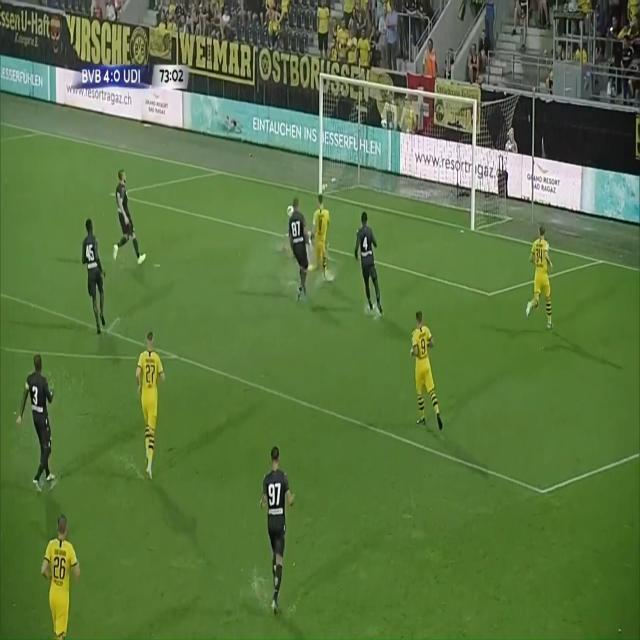ball: (286, 204, 295, 221)
player: (14, 353, 63, 499), (259, 442, 295, 626), (38, 509, 88, 640), (405, 306, 446, 439), (133, 328, 166, 485), (111, 160, 154, 276), (351, 201, 388, 325), (78, 214, 112, 342), (523, 223, 555, 341), (289, 197, 317, 304), (312, 187, 333, 282)
